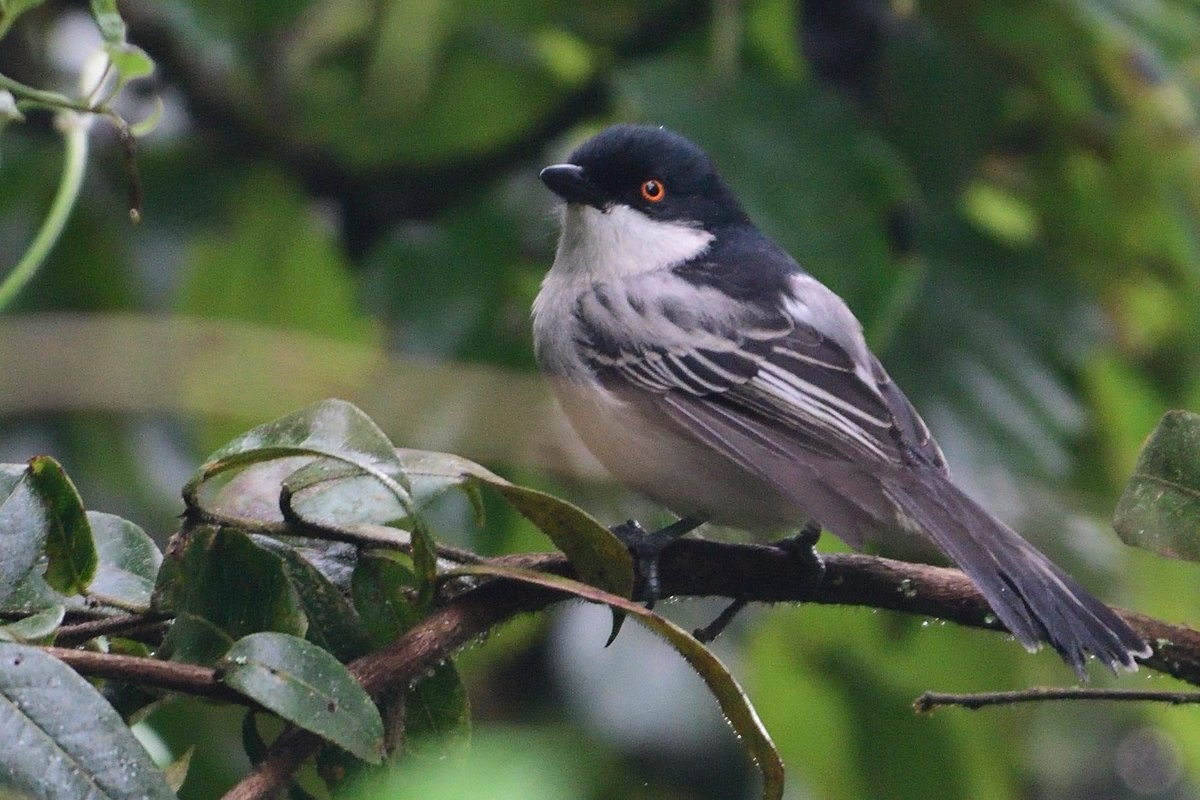bird: (513, 106, 1165, 695)
